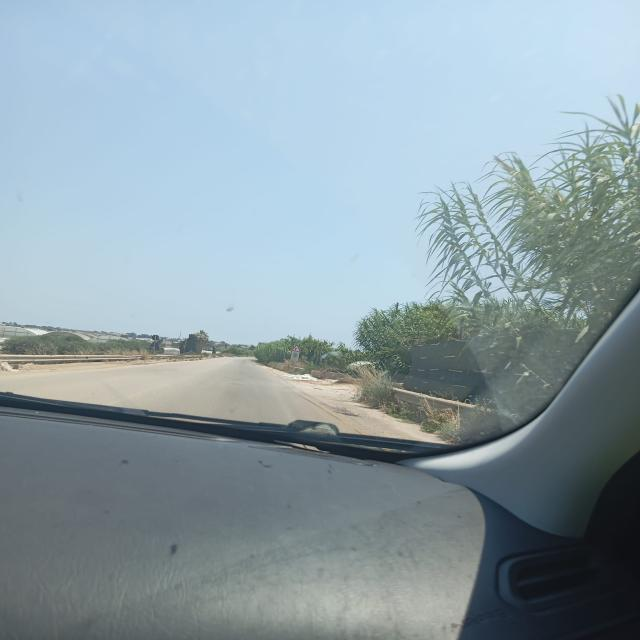warn_right_curve: (291, 344, 301, 352)
